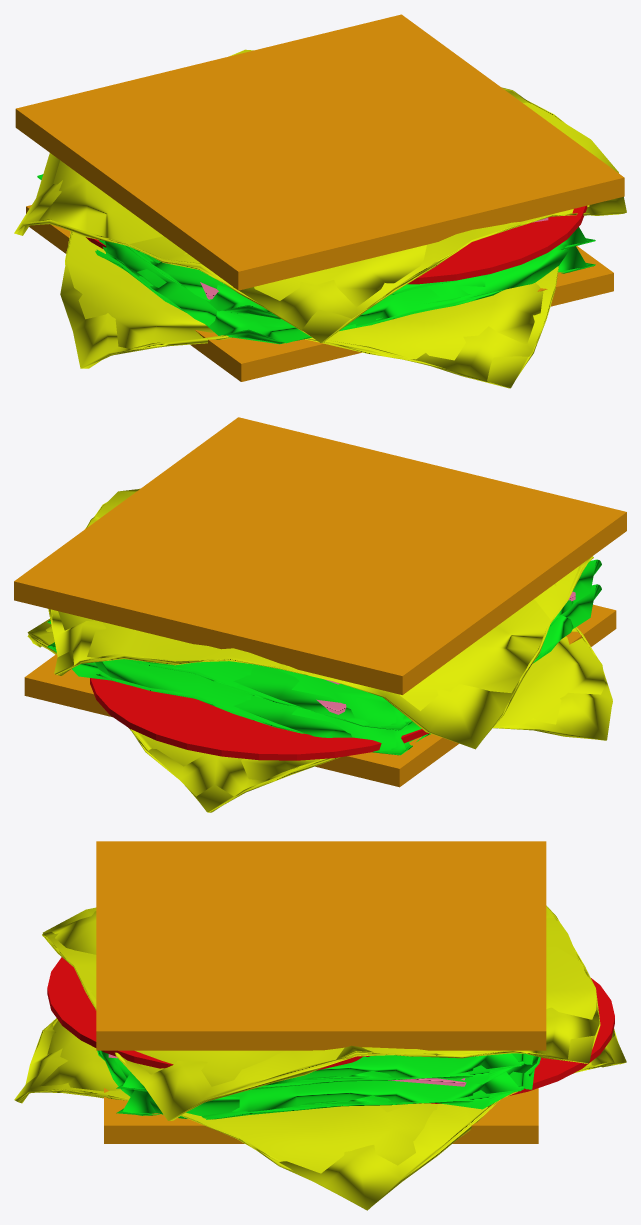
File: Sandwich.fbx
3 views of the same model, one above another, from view 1: azimuth 30°, elevation 25°; view 2: azimuth 150°, elevation 25°; view 3: azimuth 270°, elevation 25° (orthographic).
Parts seen in each view (by area): view 1: Cube.007, Cube.002, Cube.005, Cube.003, Cube.001, Cylinder.001, Cube.004; view 2: Cube.007, Cube.005, Cube.002, Cylinder, Cube.003, Cube.004, Cube.001; view 3: Cube.007, Cube.002, Cube.005, Cube.003, Cube.001, Cube.004, Cylinder.001, Cylinder.
Boxes of the visible parts, x1,y1,x2,y2 form: Cube.007: (15, 14, 624, 290); Cube.002: (60, 231, 558, 388); Cube.005: (14, 49, 626, 343); Cube.003: (95, 240, 595, 344); Cube.001: (26, 205, 613, 381); Cylinder.001: (407, 205, 587, 284); Cube.004: (37, 174, 595, 319); Cube.007: (14, 417, 626, 694); Cube.005: (48, 488, 593, 749); Cube.002: (27, 619, 612, 812); Cylinder: (90, 678, 428, 760); Cube.003: (47, 584, 601, 755); Cube.004: (47, 559, 601, 730); Cube.001: (24, 604, 616, 787); Cube.007: (96, 841, 546, 1050); Cube.002: (14, 1018, 626, 1210); Cube.005: (42, 905, 600, 1120); Cube.003: (97, 1050, 540, 1119); Cube.001: (104, 1088, 538, 1143); Cube.004: (116, 1053, 533, 1091); Cylinder.001: (47, 957, 369, 1070); Cylinder: (413, 978, 614, 1103).
Bounding box in the file's own units: 42.24 × 11.28 × 42.31.
